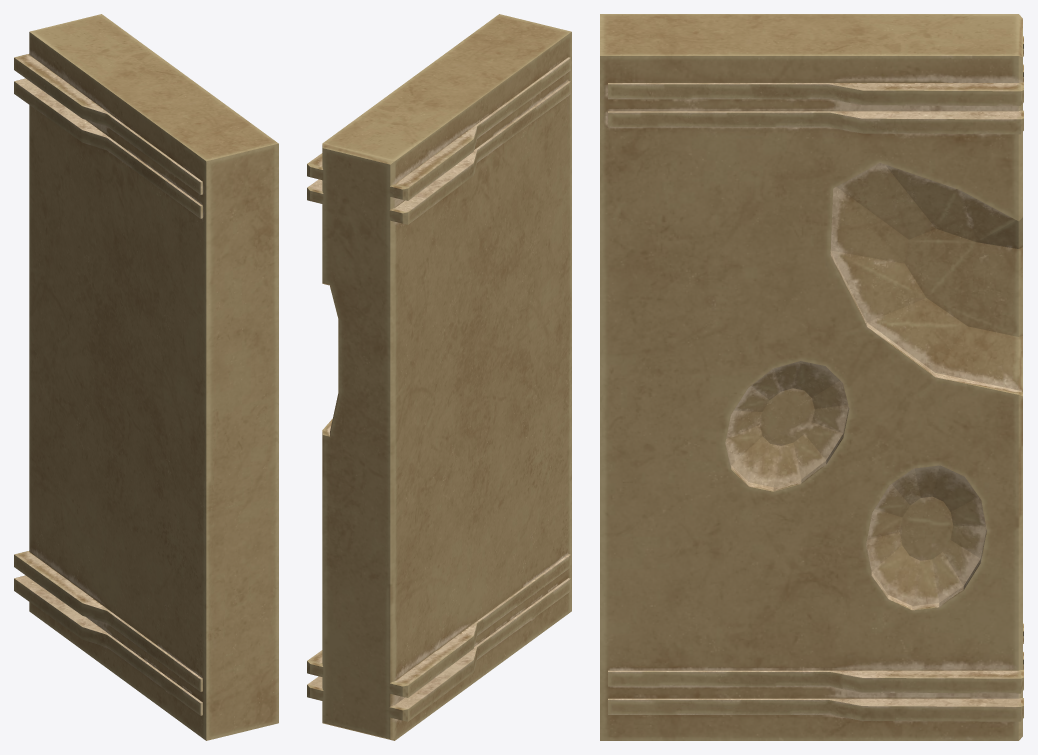
The model's file is Right paw door ruin.FBX.
3 renders of one model, left to right at view 1: azimuth 30°, elevation 25°; view 2: azimuth 150°, elevation 25°; view 3: azimuth 270°, elevation 25°, orthographic. The views are drawn at different scales.
Parts seen in each view (by area): view 1: door left001; view 2: door left001; view 3: door left001.
Boxes of the visible parts, <box> form: door left001: <box>14,14,278,740</box>; door left001: <box>307,14,571,740</box>; door left001: <box>600,14,1023,740</box>.
Size of the model in its own units: 459 by 2516 by 1410.
1 material, 1 textured.
